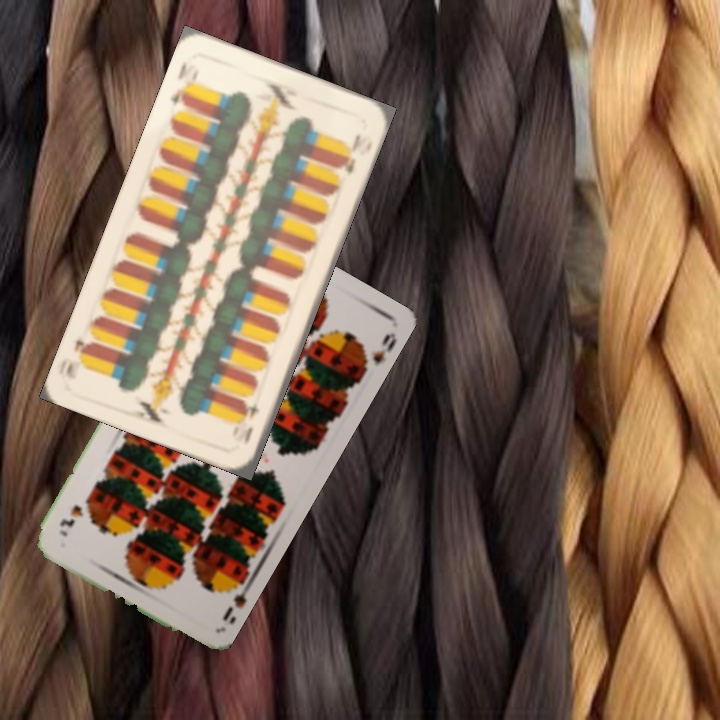E10: (235, 392, 263, 448), (166, 57, 196, 109)
S9: (218, 574, 254, 624)
